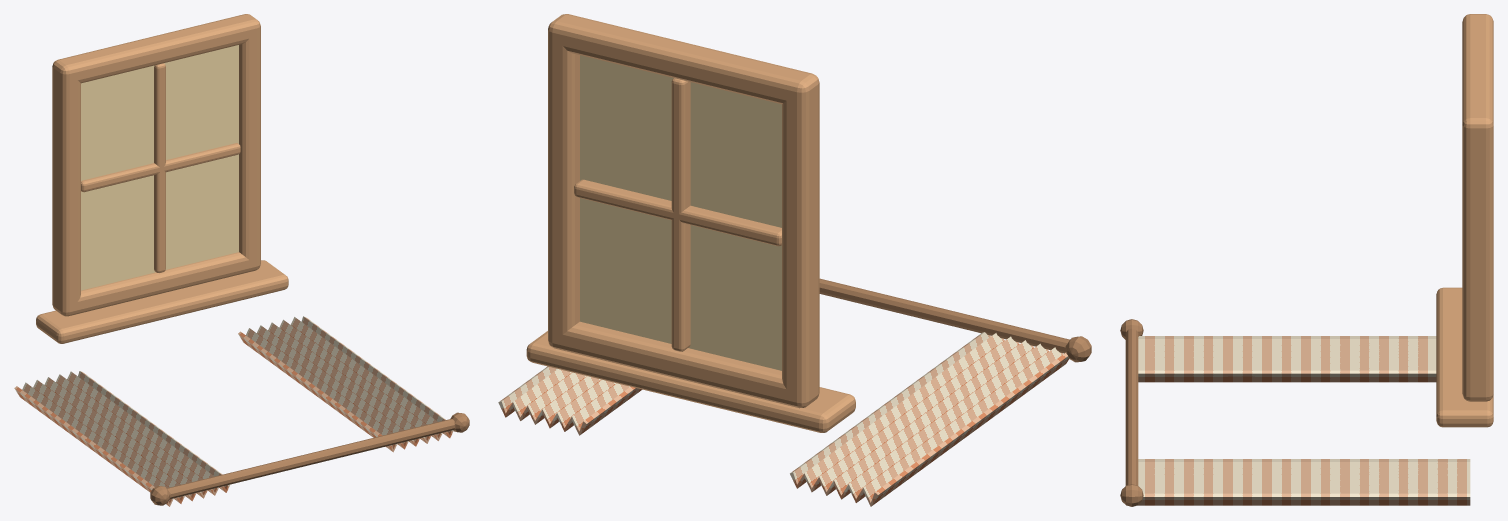
Rendered from window_curtains.fbx.
3 renders of one model, left to right at view 1: azimuth 30°, elevation 25°; view 2: azimuth 150°, elevation 25°; view 3: azimuth 270°, elevation 25°, orthographic. The views are drawn at different scales.
Parts seen in each view (by area): view 1: Glass, Curtain_Panel.001, Curtain_Panel, Frame_Side, Sill, Frame_Top, Frame_Side.001, Frame_Bottom, Curtain_Rod, Mullion_V, Mullion_H; view 2: Glass, Curtain_Panel, Frame_Side, Frame_Side.001, Frame_Top, Frame_Bottom, Sill, Curtain_Panel.001, Mullion_V, Mullion_H, Curtain_Rod; view 3: Curtain_Panel.001, Curtain_Panel, Frame_Side.001, Sill, Frame_Top, Curtain_Rod, Frame_Bottom, Curtain_Finial.001.
Part boxes in pixels (x1=…): Glass: x1=81, y1=45, x2=238, y2=290; Curtain_Panel.001: x1=238, y1=316, x2=453, y2=452; Curtain_Panel: x1=14, y1=371, x2=230, y2=506; Frame_Side: x1=52, y1=58, x2=80, y2=315; Sill: x1=36, y1=260, x2=288, y2=343; Frame_Top: x1=53, y1=14, x2=260, y2=83; Frame_Side.001: x1=238, y1=14, x2=260, y2=271; Frame_Bottom: x1=52, y1=252, x2=260, y2=316; Curtain_Rod: x1=167, y1=419, x2=455, y2=498; Mullion_V: x1=154, y1=63, x2=165, y2=272; Mullion_H: x1=81, y1=143, x2=240, y2=192; Glass: x1=580, y1=55, x2=781, y2=370; Curtain_Panel: x1=790, y1=332, x2=1068, y2=506; Frame_Side: x1=782, y1=71, x2=819, y2=406; Frame_Side.001: x1=548, y1=14, x2=579, y2=350; Frame_Top: x1=548, y1=15, x2=819, y2=104; Frame_Bottom: x1=548, y1=321, x2=819, y2=408; Sill: x1=526, y1=331, x2=855, y2=432; Curtain_Panel.001: x1=498, y1=366, x2=642, y2=435; Mullion_V: x1=671, y1=78, x2=690, y2=351; Mullion_H: x1=574, y1=179, x2=781, y2=246; Curtain_Rod: x1=819, y1=278, x2=1069, y2=353; Curtain_Panel.001: x1=1138, y1=459, x2=1470, y2=505; Curtain_Panel: x1=1138, y1=336, x2=1436, y2=382; Frame_Side.001: x1=1462, y1=113, x2=1493, y2=396; Sill: x1=1436, y1=287, x2=1493, y2=427; Frame_Top: x1=1462, y1=14, x2=1493, y2=137; Curtain_Rod: x1=1125, y1=328, x2=1138, y2=485; Frame_Bottom: x1=1462, y1=385, x2=1493, y2=401; Curtain_Finial.001: x1=1120, y1=484, x2=1143, y2=506.
Bounding box in the file's own units: 1.59 × 1.53 × 1.43.
Materials: 4 (1 with a texture image).
